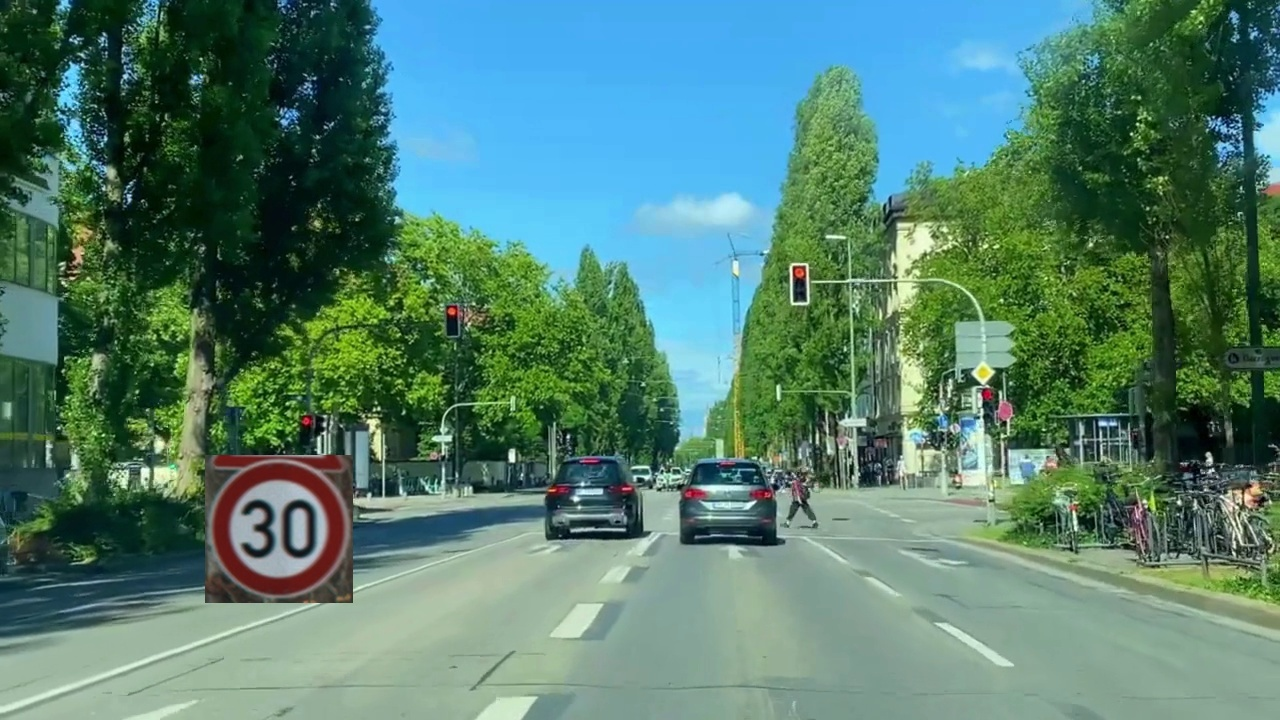Speed 30: (205, 455, 353, 603)
